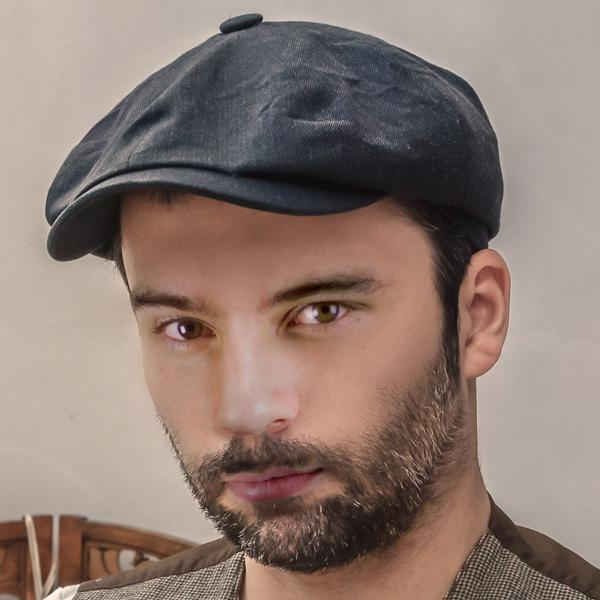Eyes: (278, 291, 369, 344), (146, 311, 224, 354)
